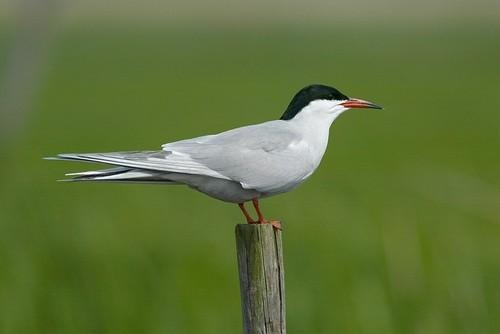bird: (43, 85, 384, 230)
